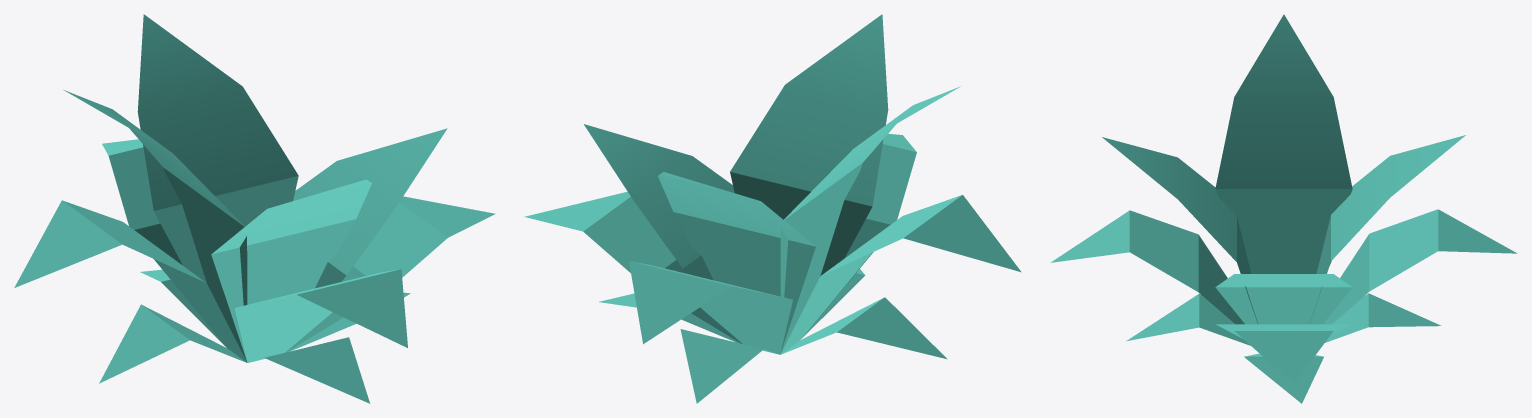
The model's file is plant_bushDetailed.obj.
3 renders of one model, left to right at view 1: azimuth 30°, elevation 25°; view 2: azimuth 150°, elevation 25°; view 3: azimuth 270°, elevation 25°, orthographic. The views are drawn at different scales.
Visible parts, largest first — view 1: plant_bushDetailed; view 2: plant_bushDetailed; view 3: plant_bushDetailed.
Boxes of the visible parts, x1=… form: plant_bushDetailed: x1=14, y1=14, x2=495, y2=403; plant_bushDetailed: x1=524, y1=14, x2=1021, y2=403; plant_bushDetailed: x1=1050, y1=14, x2=1517, y2=403.
Size of the model in its own units: 6.03 by 3.6 by 6.03.
